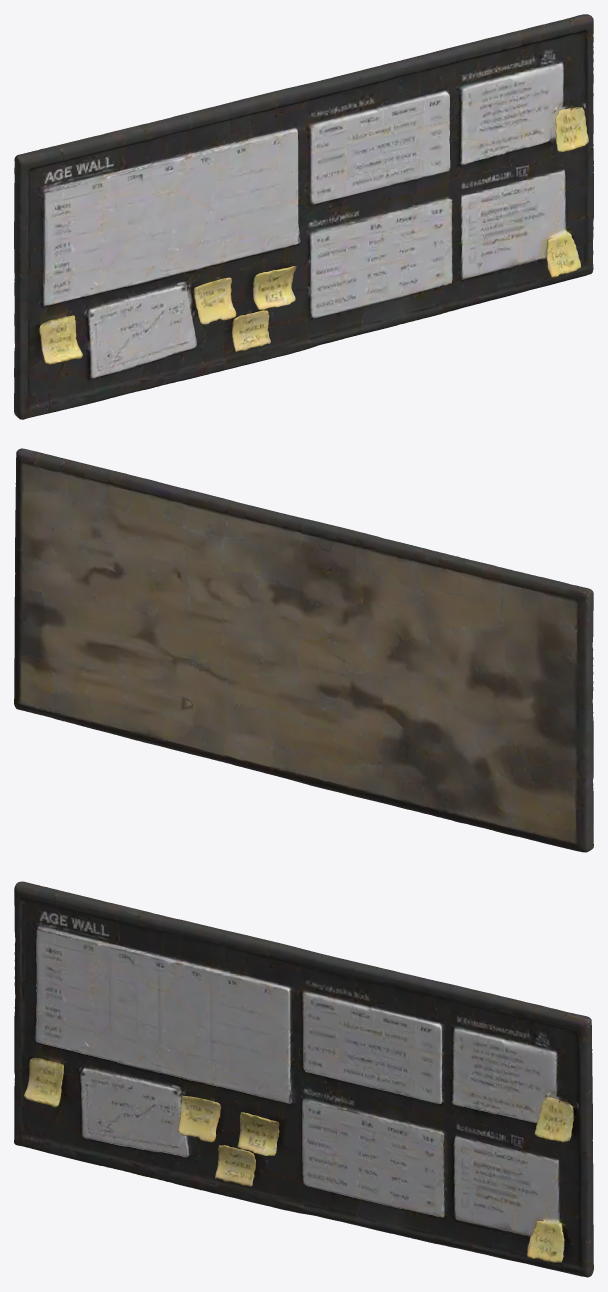
The model's file is Meshy_AI_Age_Wall_0611070403_texture_compressed.glb.
The picture shows the model from 3 angles, top to bottom: view 1: azimuth 30°, elevation 25°; view 2: azimuth 150°, elevation 25°; view 3: azimuth 330°, elevation 25°; orthographic projection.
Bounding box in the file's own units: 2 × 0.8779 × 0.1106.
Materials: 1 (1 with a texture image).
